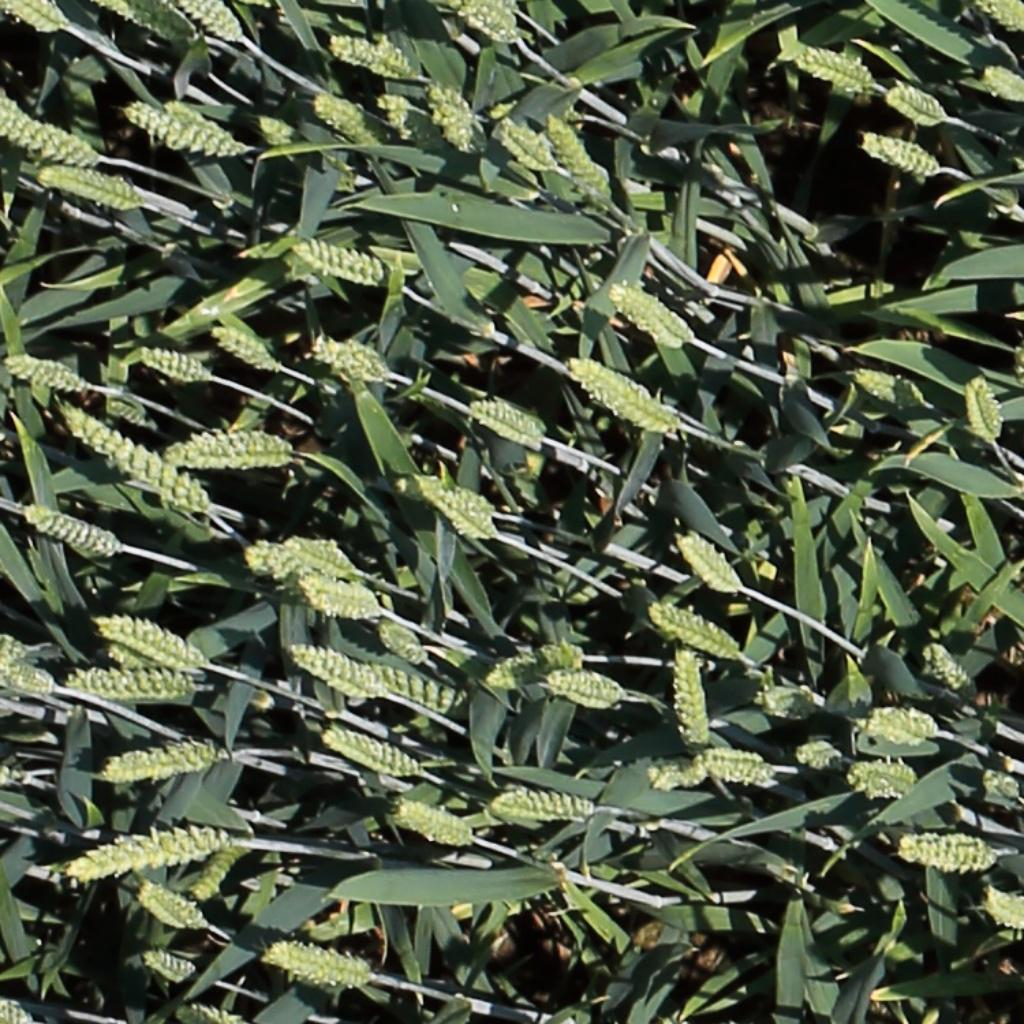0-0: (57, 404, 214, 515), (54, 826, 226, 889), (293, 647, 441, 708), (539, 105, 613, 200), (69, 0, 207, 47), (256, 936, 380, 988), (146, 430, 303, 470), (22, 501, 131, 558), (90, 739, 221, 786), (576, 371, 674, 431), (0, 101, 94, 163), (245, 540, 347, 596), (286, 240, 389, 295), (283, 645, 387, 699), (121, 102, 228, 154), (92, 617, 201, 667), (570, 360, 664, 417), (647, 603, 738, 660), (319, 729, 419, 776), (671, 531, 742, 596), (610, 285, 692, 341), (671, 640, 708, 760), (38, 165, 141, 207), (54, 667, 188, 699), (918, 636, 980, 704), (897, 828, 1002, 868), (184, 838, 243, 909), (307, 337, 396, 384), (157, 96, 234, 147), (285, 535, 373, 579), (420, 81, 475, 151), (491, 110, 555, 170), (420, 490, 495, 540), (294, 578, 381, 621), (326, 35, 410, 79), (857, 129, 940, 172), (393, 802, 473, 846), (415, 479, 495, 522), (487, 648, 577, 686), (757, 674, 818, 727), (206, 324, 275, 370), (849, 757, 924, 799), (465, 401, 540, 442), (863, 706, 939, 746), (794, 50, 873, 88), (490, 787, 590, 817), (2, 356, 87, 391), (309, 92, 372, 139), (963, 367, 1000, 447), (133, 886, 208, 925), (0, 642, 55, 694), (851, 368, 920, 408), (178, 0, 240, 43), (451, 1, 516, 42), (543, 674, 623, 707), (700, 746, 771, 783), (129, 346, 207, 379), (883, 84, 946, 122), (792, 736, 849, 778), (375, 622, 427, 666), (978, 764, 1024, 813), (250, 109, 295, 149), (984, 885, 1024, 927), (9, 0, 62, 31), (137, 951, 192, 980), (980, 65, 1024, 99), (978, 0, 1024, 32), (101, 395, 147, 425), (173, 1004, 237, 1024), (0, 999, 31, 1022)
